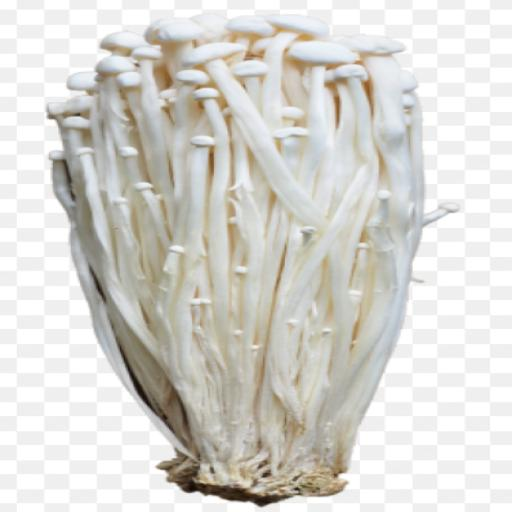Enoki Mushroom: (16, 0, 512, 512)
